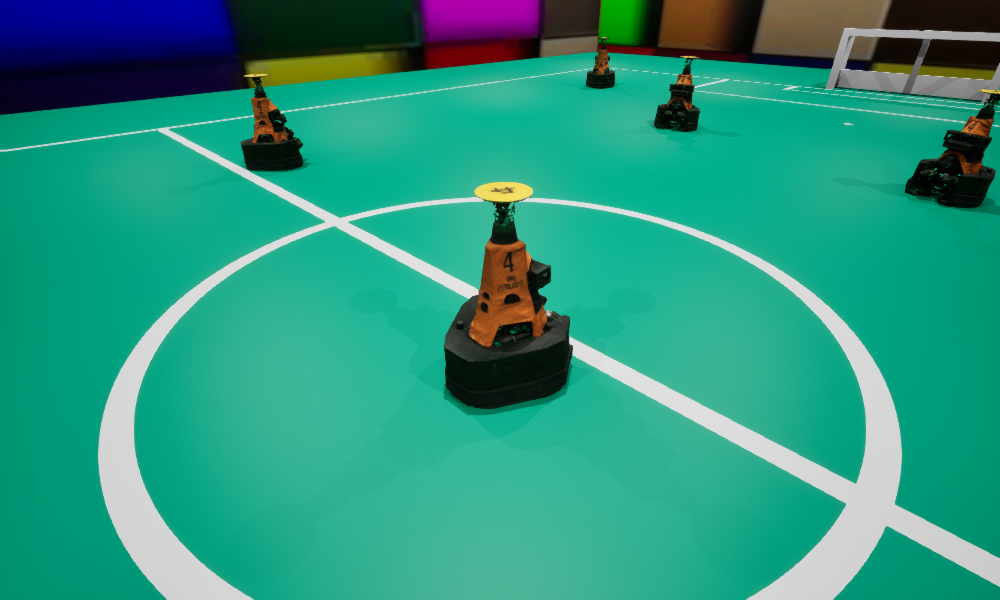0 orange robot TechUnited: (444, 182, 572, 408), (905, 89, 999, 207), (240, 74, 302, 170), (654, 56, 699, 130), (586, 37, 614, 88)
